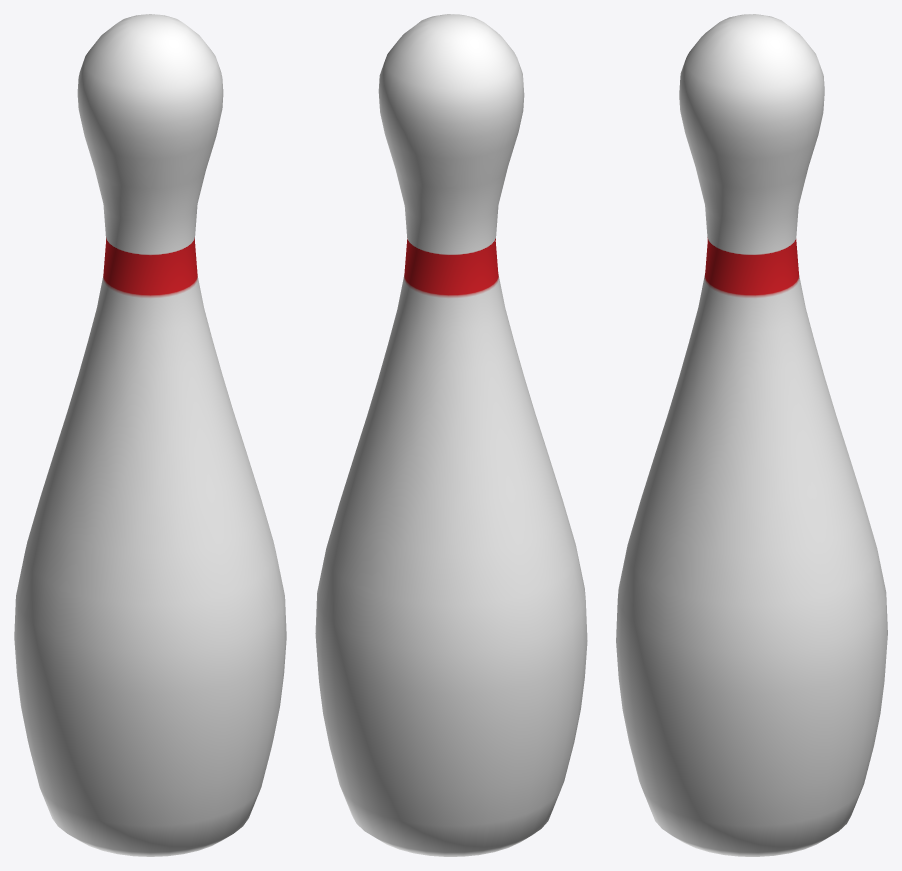
Rendered from Quille.fbx.
3 renders of one model, left to right at view 1: azimuth 30°, elevation 25°; view 2: azimuth 150°, elevation 25°; view 3: azimuth 270°, elevation 25°, orthographic.
Parts seen in each view (by area): view 1: Bowling_Pin_HighRez; view 2: Bowling_Pin_HighRez; view 3: Bowling_Pin_HighRez.
Part boxes in pixels (x1,y1,x2,y2): Bowling_Pin_HighRez: (14, 14, 286, 856); Bowling_Pin_HighRez: (315, 14, 587, 856); Bowling_Pin_HighRez: (616, 14, 887, 856).
Bounding box in the file's own units: 60.19 × 195 × 60.19.
